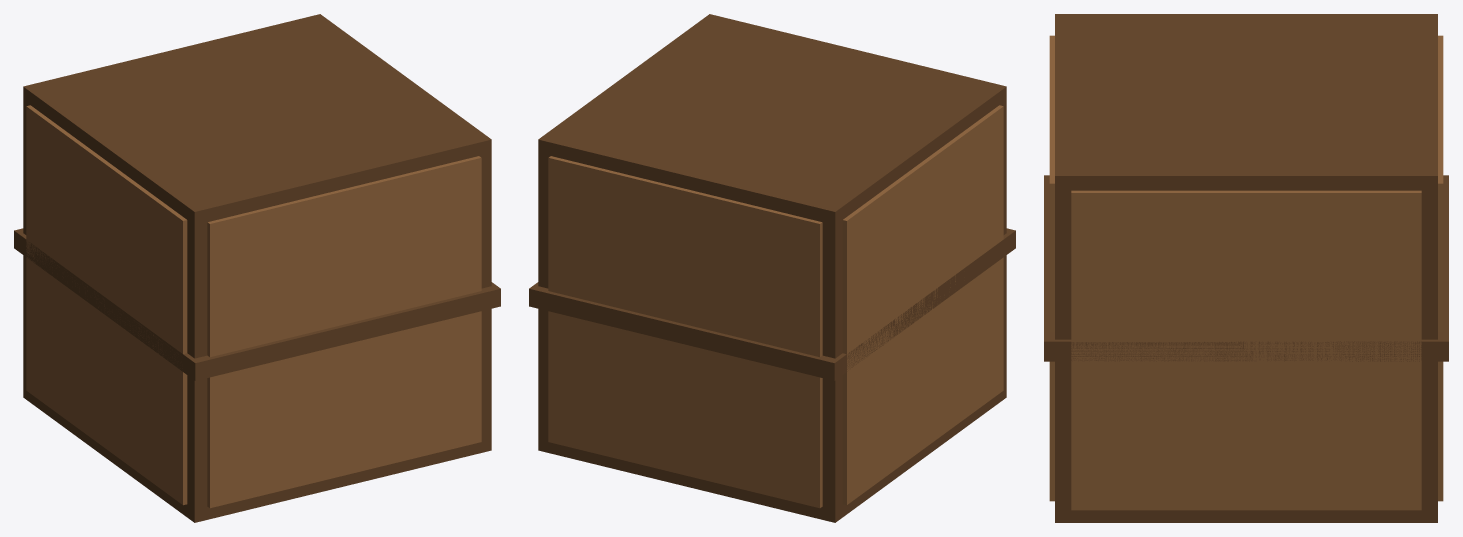
File: crate.glb
3 renders of one model, left to right at view 1: azimuth 30°, elevation 25°; view 2: azimuth 150°, elevation 25°; view 3: azimuth 270°, elevation 25°, orthographic. The views are drawn at different scales.
Visible parts, largest first — view 1: crate; view 2: crate; view 3: crate.
Part boxes in pixels (x1,y1,x2,y2): crate: [14, 14, 500, 522]; crate: [529, 14, 1015, 522]; crate: [1044, 14, 1448, 522].
Bounding box in the file's own units: 0.36 × 0.35 × 0.37.
Materials: 1 (1 with a texture image).
